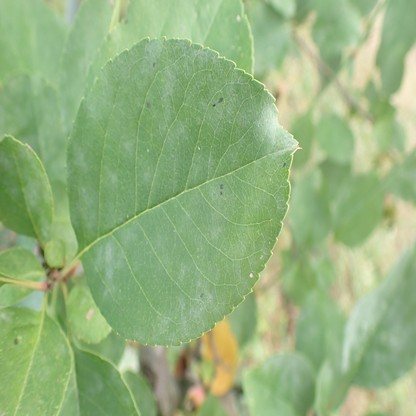powdery_mildew: (67, 35, 302, 347), (346, 289, 413, 383), (1, 149, 51, 235), (107, 370, 129, 407), (91, 371, 105, 394)
